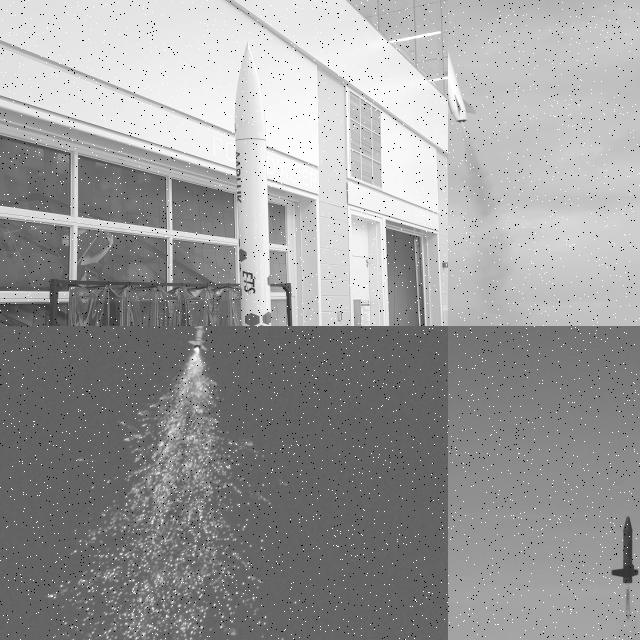Rocket: (234, 40, 271, 326), (448, 0, 477, 124), (611, 516, 640, 583), (188, 326, 208, 350)
